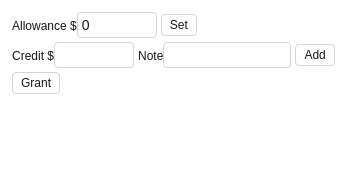
AccountActions › shows an error line on failure
Click the button "Grant": [36, 83] box [12,72,60,94]
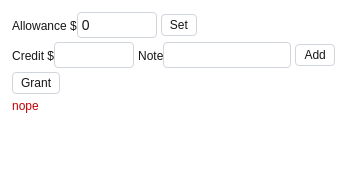
Expected: the message reads "nope", [12,99,39,113]
